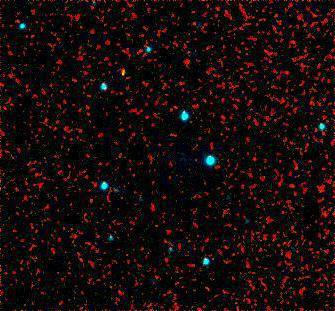star: (108, 59, 138, 89)
